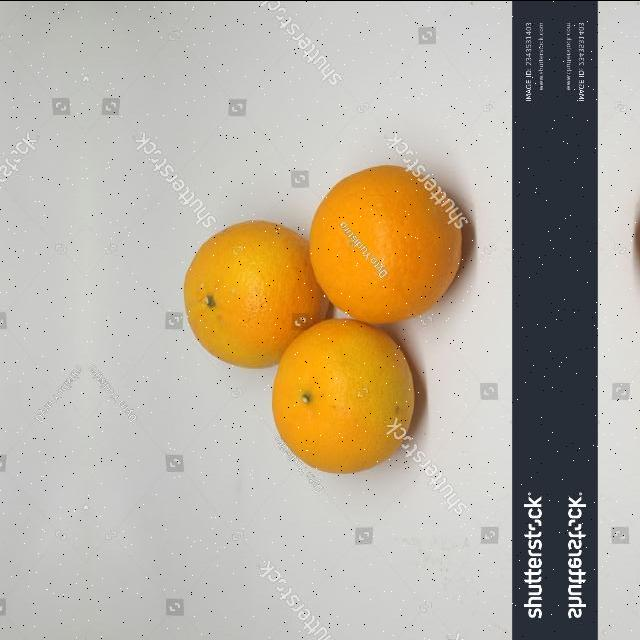Orange: (307, 164, 464, 324), (270, 318, 416, 474), (182, 219, 329, 369)
